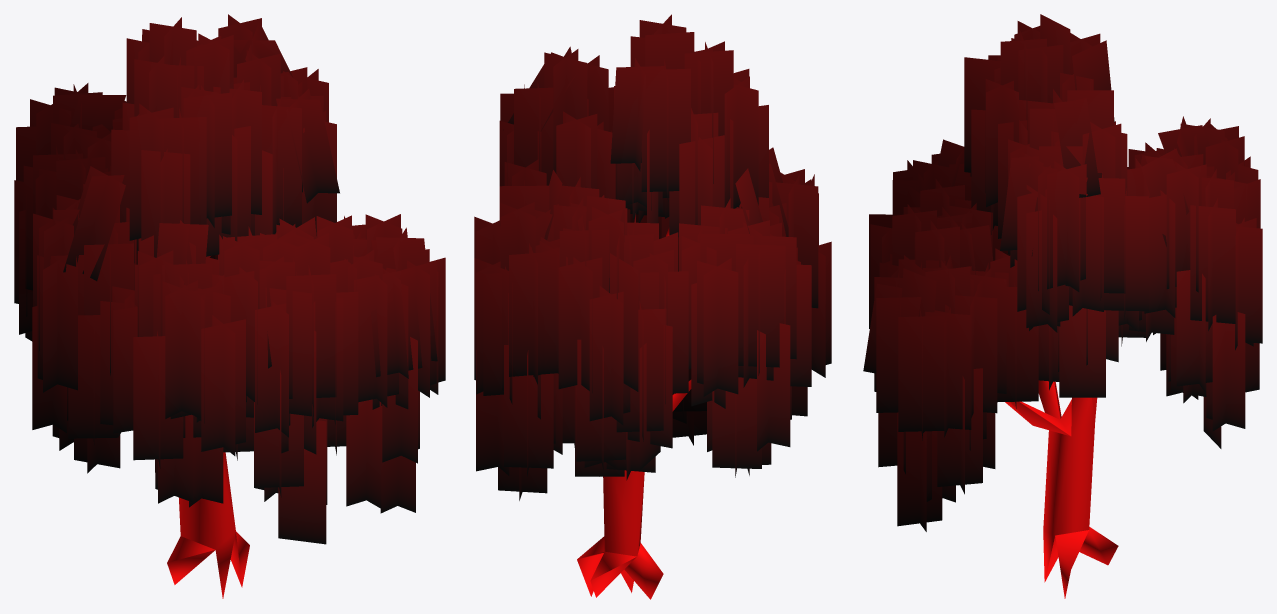
The model's file is SM_Tree_Willow_Large_01_LOD01.fbx.
3 renders of one model, left to right at view 1: azimuth 30°, elevation 25°; view 2: azimuth 150°, elevation 25°; view 3: azimuth 270°, elevation 25°, orthographic. The views are drawn at different scales.
Visible parts, largest first — view 1: SM_Tree_Willow_Large_01_LOD01; view 2: SM_Tree_Willow_Large_01_LOD01; view 3: SM_Tree_Willow_Large_01_LOD01.
Part boxes in pixels (x1,y1,x2,y2): SM_Tree_Willow_Large_01_LOD01: (14,14,445,598); SM_Tree_Willow_Large_01_LOD01: (474,14,831,599); SM_Tree_Willow_Large_01_LOD01: (863,14,1262,598).
Bounding box in the file's own units: 580 × 956 × 635.
